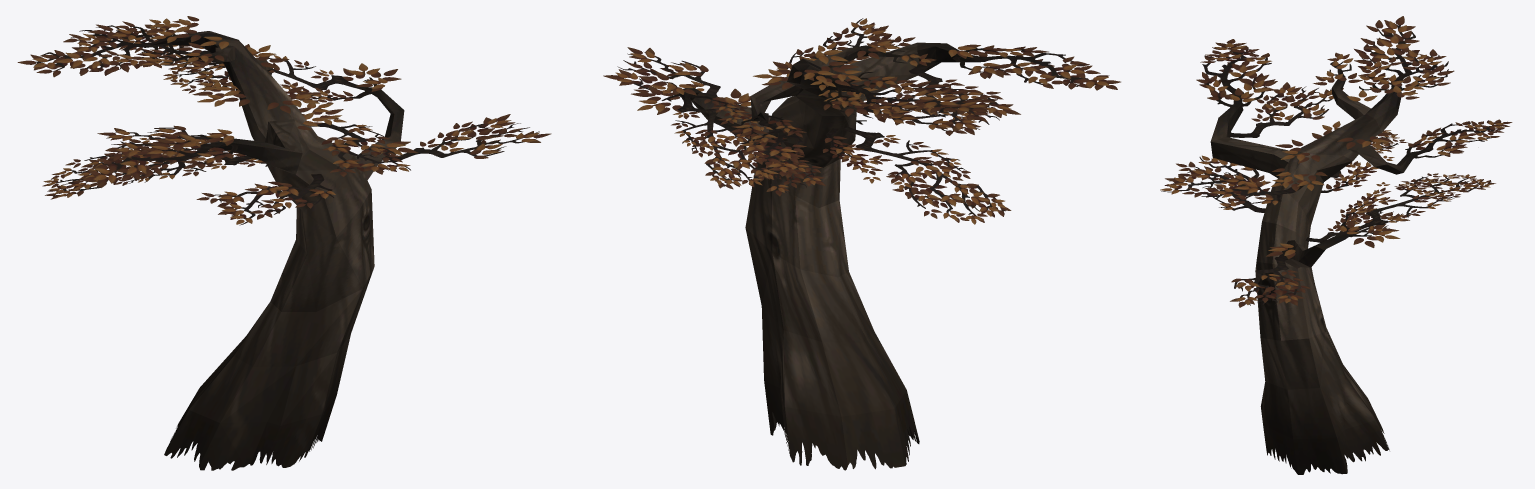
Rendered from cherrytree_dead_02.fbx.
3 renders of one model, left to right at view 1: azimuth 30°, elevation 25°; view 2: azimuth 150°, elevation 25°; view 3: azimuth 270°, elevation 25°, orthographic. The views are drawn at different scales.
Visible parts, largest first — view 1: obj1.066; view 2: obj1.066; view 3: obj1.066.
Boxes of the visible parts, x1,y1,x2,y2 form: obj1.066: (17,16,551,470); obj1.066: (603,18,1120,470); obj1.066: (1160,16,1512,474).
Bounding box in the file's own units: 9.01 × 7.11 × 6.67.
